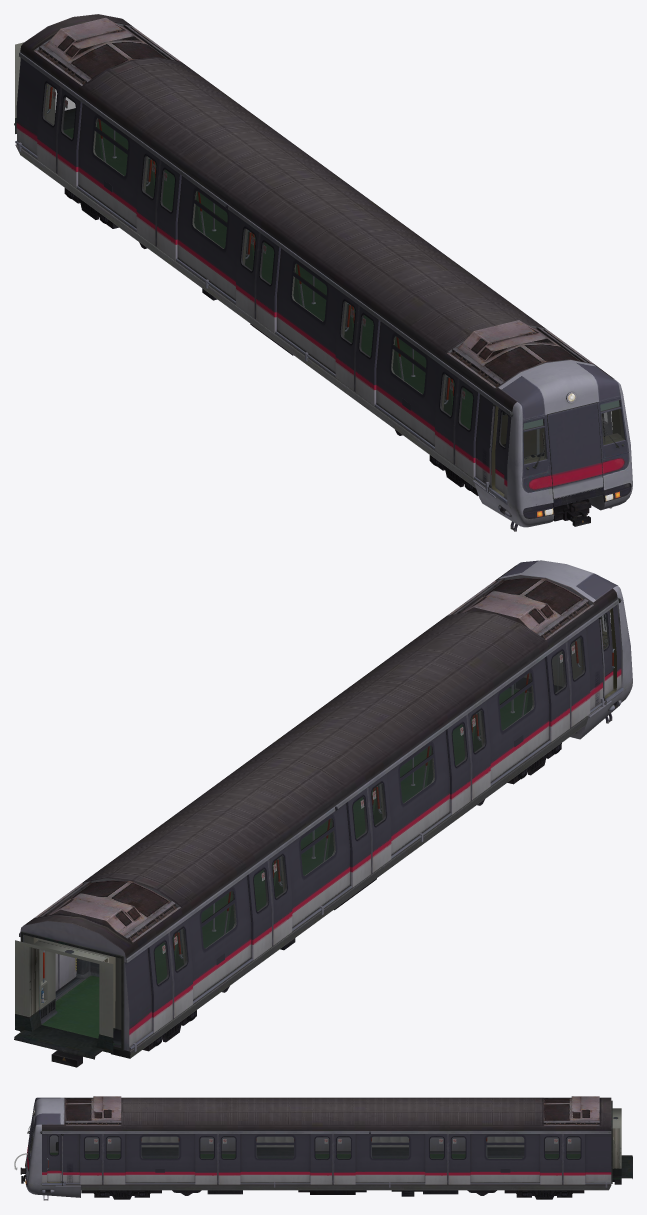
The model's file is train.glb.
3 renders of one model, top to bottom at view 1: azimuth 30°, elevation 25°; view 2: azimuth 150°, elevation 25°; view 3: azimuth 270°, elevation 25°, orthographic. The views are drawn at different scales.
Visible parts, largest first — view 1: T_MRTIsland_BodyEXT, T_MRTIsland_BodyINT, T_MRTIsland_Escape_Door01, T_MRTIsland_DoorAutoR05, T_MRTIsland_DoorAutoR09, T_MRTIsland_DoorAutoR03, T_MRTIsland_DoorAutoR07, T_MRTIsland_DoorAutoR01, T_MRTIsland_Glass01, T_MRTIsland_DoorAutoR08, T_MRTIsland_DoorAutoR06, T_MRTIsland_DoorAutoR10 (+7 smaller); view 2: T_MRTIsland_BodyEXT, T_MRTIsland_BodyINT, T_MRTIsland_DoorAutoR08, T_MRTIsland_DoorAutoR10, T_MRTIsland_DoorAutoR04, T_MRTIsland_DoorAutoR06, T_MRTIsland_DoorAutoR02, T_MRTIsland_DoorAutoR07, T_MRTIsland_DoorAutoR01, T_MRTIsland_DoorAutoR09, T_MRTIsland_DoorAutoR03, T_MRTIsland_DoorAutoR05 (+5 smaller); view 3: T_MRTIsland_BodyEXT, T_MRTIsland_BodyINT, T_MRTIsland_DoorAutoL03, T_MRTIsland_DoorAutoL04, T_MRTIsland_DoorAutoL10, T_MRTIsland_DoorAutoL08, T_MRTIsland_DoorAutoL05, T_MRTIsland_DoorAutoL02, T_MRTIsland_DoorAutoL09, T_MRTIsland_DoorAutoL07, T_MRTIsland_DoorAutoL06, T_MRTIsland_DoorAutoL01 (+29 smaller).
Part boxes in pixels (x1=…): T_MRTIsland_BodyEXT: x1=15, y1=14, x2=632, y2=531; T_MRTIsland_BodyINT: x1=14, y1=42, x2=624, y2=499; T_MRTIsland_Escape_Door01: x1=547, y1=402, x2=603, y2=499; T_MRTIsland_DoorAutoR05: x1=255, y1=233, x2=280, y2=332; T_MRTIsland_DoorAutoR09: x1=57, y1=87, x2=82, y2=187; T_MRTIsland_DoorAutoR03: x1=355, y1=306, x2=380, y2=405; T_MRTIsland_DoorAutoR07: x1=156, y1=160, x2=181, y2=260; T_MRTIsland_DoorAutoR01: x1=454, y1=378, x2=479, y2=478; T_MRTIsland_Glass01: x1=524, y1=400, x2=624, y2=463; T_MRTIsland_DoorAutoR08: x1=136, y1=146, x2=160, y2=245; T_MRTIsland_DoorAutoR06: x1=236, y1=218, x2=259, y2=318; T_MRTIsland_DoorAutoR10: x1=37, y1=73, x2=61, y2=173; T_MRTIsland_BodyEXT: x1=19, y1=560, x2=632, y2=1067; T_MRTIsland_BodyINT: x1=14, y1=608, x2=616, y2=1059; T_MRTIsland_DoorAutoR08: x1=247, y1=860, x2=272, y2=960; T_MRTIsland_DoorAutoR10: x1=147, y1=933, x2=173, y2=1032; T_MRTIsland_DoorAutoR04: x1=445, y1=715, x2=471, y2=814; T_MRTIsland_DoorAutoR06: x1=346, y1=787, x2=371, y2=887; T_MRTIsland_DoorAutoR02: x1=545, y1=642, x2=570, y2=741; T_MRTIsland_DoorAutoR07: x1=268, y1=846, x2=292, y2=945; T_MRTIsland_DoorAutoR01: x1=566, y1=627, x2=590, y2=727; T_MRTIsland_DoorAutoR09: x1=169, y1=919, x2=192, y2=1018; T_MRTIsland_DoorAutoR03: x1=467, y1=701, x2=490, y2=800; T_MRTIsland_DoorAutoR05: x1=367, y1=773, x2=391, y2=873; T_MRTIsland_BodyEXT: x1=20, y1=1096, x2=621, y2=1200; T_MRTIsland_BodyINT: x1=30, y1=1108, x2=632, y2=1182; T_MRTIsland_DoorAutoL03: x1=195, y1=1134, x2=217, y2=1184; T_MRTIsland_DoorAutoL04: x1=218, y1=1134, x2=240, y2=1184; T_MRTIsland_DoorAutoL10: x1=563, y1=1134, x2=585, y2=1184; T_MRTIsland_DoorAutoL08: x1=448, y1=1134, x2=470, y2=1184; T_MRTIsland_DoorAutoL05: x1=310, y1=1134, x2=332, y2=1184; T_MRTIsland_DoorAutoL02: x1=103, y1=1134, x2=125, y2=1184; T_MRTIsland_DoorAutoL09: x1=540, y1=1134, x2=562, y2=1184; T_MRTIsland_DoorAutoL07: x1=425, y1=1134, x2=447, y2=1184; T_MRTIsland_DoorAutoL06: x1=333, y1=1134, x2=355, y2=1184; T_MRTIsland_DoorAutoL01: x1=80, y1=1134, x2=102, y2=1184.
Bounding box in the file's own units: 44.12 × 53.1 × 345.
25 materials, 25 textured.
